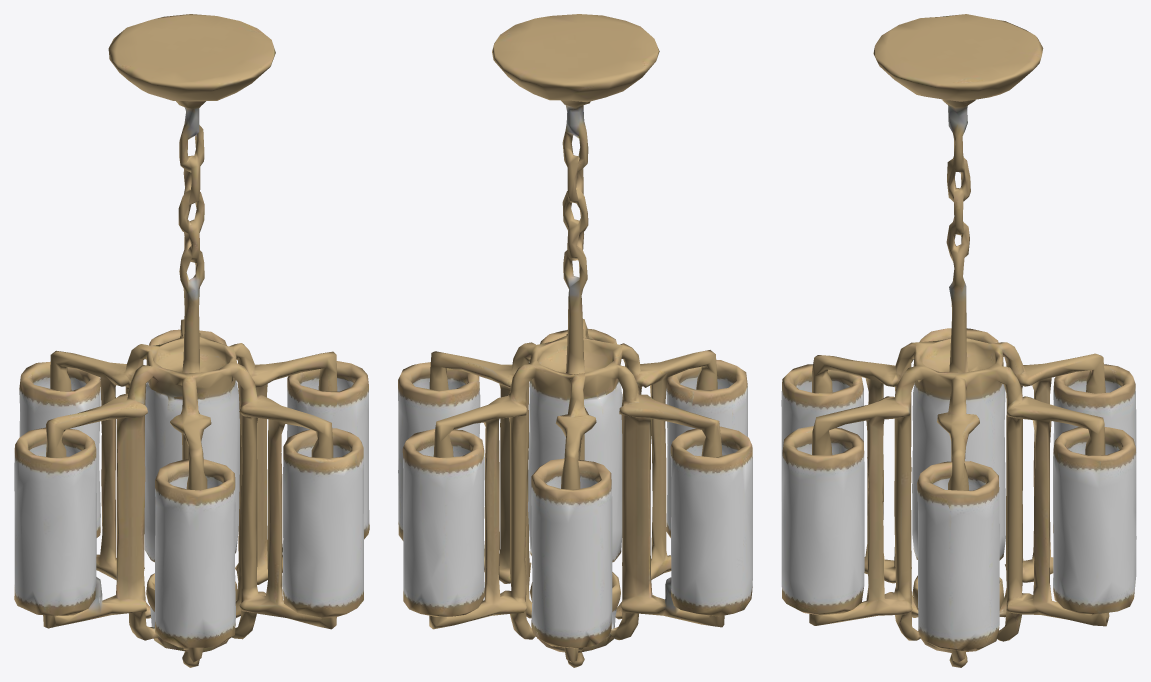
The model's file is chandelier_lantern.glb.
The picture shows the model from 3 angles, left to right: view 1: azimuth 30°, elevation 25°; view 2: azimuth 150°, elevation 25°; view 3: azimuth 270°, elevation 25°; orthographic projection.
Size of the model in its own units: 0.5857 by 1.01 by 0.5226.
Materials: 1 (1 with a texture image).
